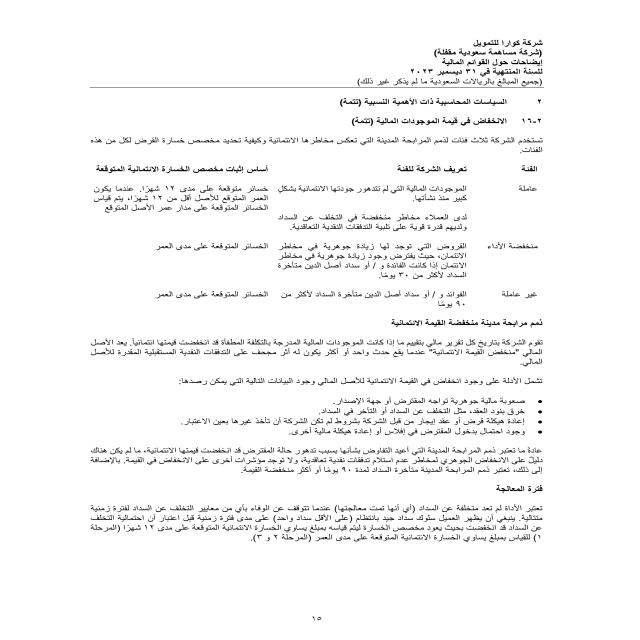notes: (442, 59, 544, 68)
text: (67, 97, 569, 546)
